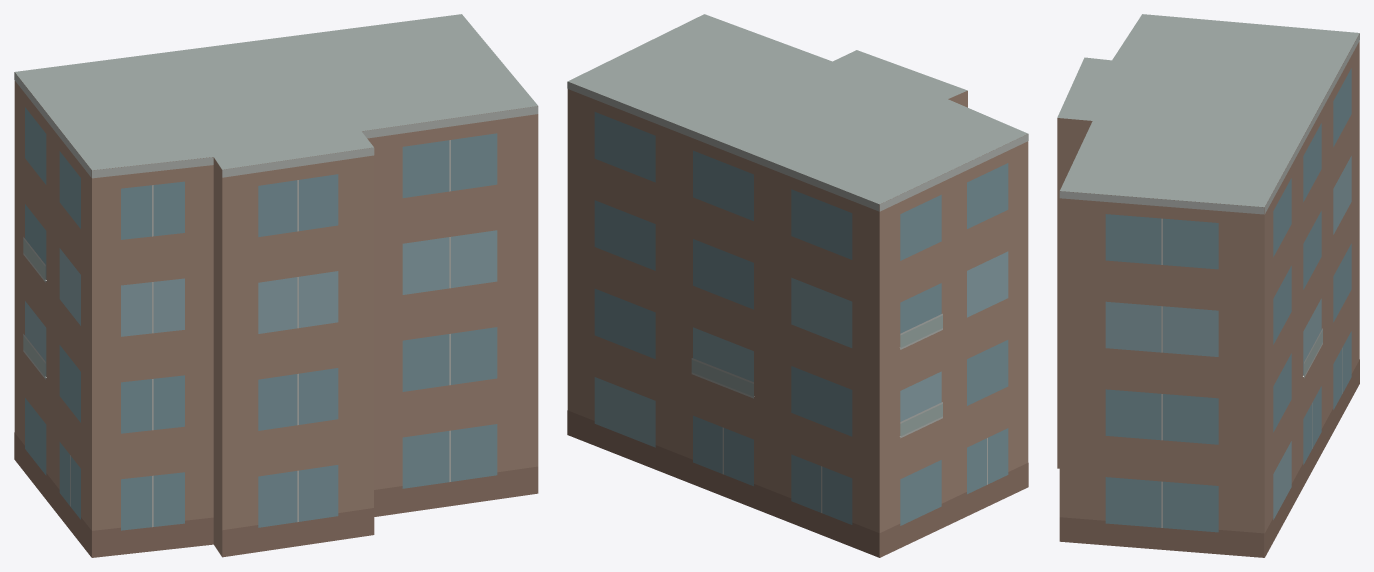
File: survey-upis-32643352.glb
3 views of the same model, side by side, from view 1: azimuth 30°, elevation 25°; view 2: azimuth 150°, elevation 25°; view 3: azimuth 270°, elevation 25° (orthographic). The views are drawn at different scales.
Visible parts, largest first — view 1: survey-upis-32643352.tmp; view 2: survey-upis-32643352.tmp; view 3: survey-upis-32643352.tmp.
Boxes of the visible parts, bbox=[...] form: survey-upis-32643352.tmp: bbox=[14, 14, 538, 557]; survey-upis-32643352.tmp: bbox=[567, 14, 1028, 557]; survey-upis-32643352.tmp: bbox=[1057, 14, 1359, 557].
Size of the model in its own units: 13.84 by 11.7 by 9.16.
